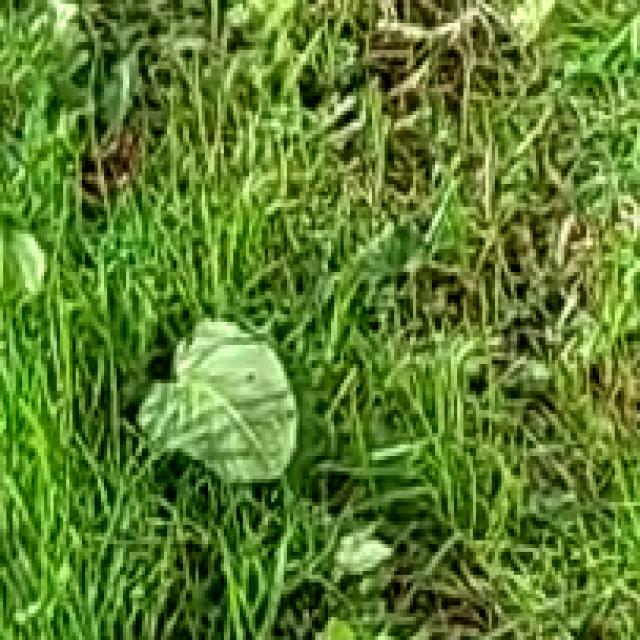organic waste: (107, 260, 347, 506)
